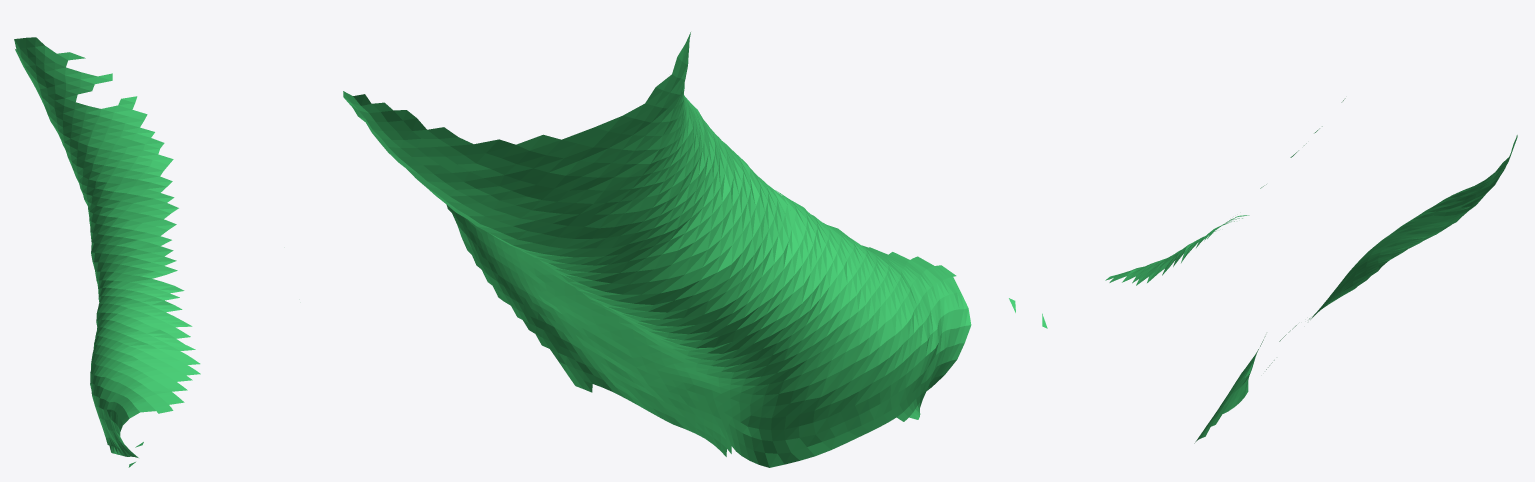
File: rh_parahippocampal.glb
3 views of the same model, side by side, from view 1: azimuth 30°, elevation 25°; view 2: azimuth 150°, elevation 25°; view 3: azimuth 270°, elevation 25° (orthographic). The views are drawn at different scales.
Visible parts, largest first — view 1: world; view 2: world; view 3: world.
Boxes of the visible parts, bbox=[...] form: world: bbox=[14, 37, 200, 467]; world: bbox=[343, 32, 1047, 467]; world: bbox=[1105, 98, 1517, 443].
Bounding box in the file's own units: 23.88 × 31.93 × 33.49.
